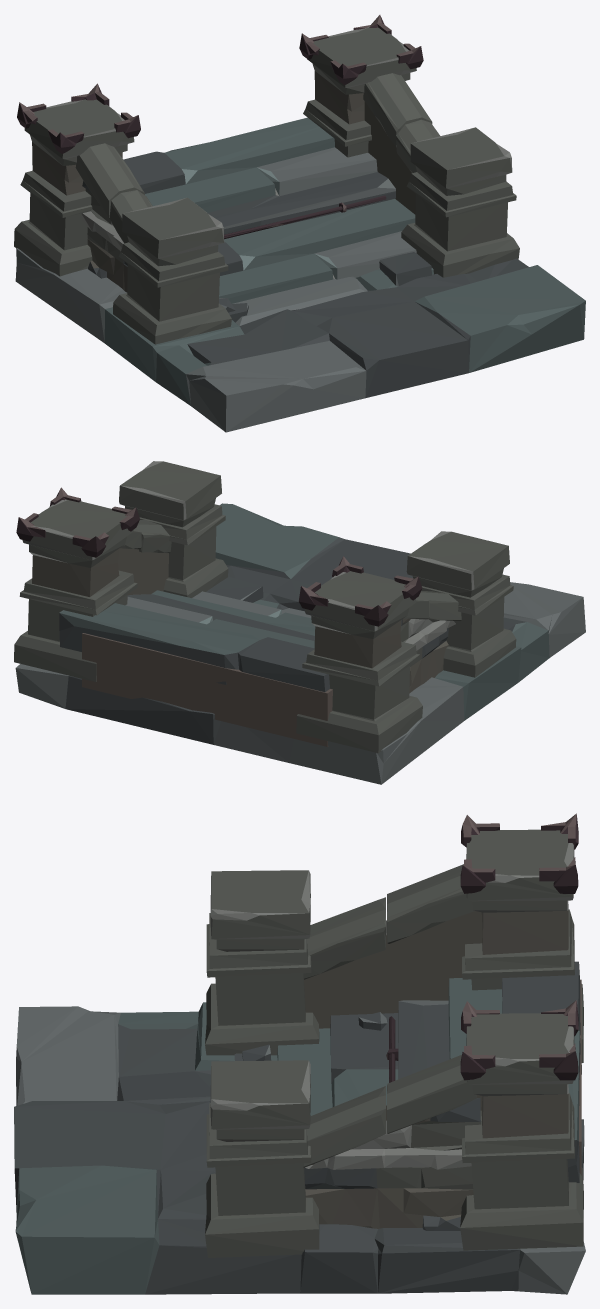
Rendered from MDungeons_Steps_MTrim_Short.FBX.
3 renders of one model, top to bottom at view 1: azimuth 30°, elevation 25°; view 2: azimuth 150°, elevation 25°; view 3: azimuth 270°, elevation 25°, orthographic. The views are drawn at different scales.
Parts seen in each view (by area): view 1: MDungeons_Steps_MTrim_Short_LOD0; view 2: MDungeons_Steps_MTrim_Short_LOD0; view 3: MDungeons_Steps_MTrim_Short_LOD0.
Part boxes in pixels (<box>): MDungeons_Steps_MTrim_Short_LOD0: <box>14,15,585,432</box>; MDungeons_Steps_MTrim_Short_LOD0: <box>14,461,585,784</box>; MDungeons_Steps_MTrim_Short_LOD0: <box>14,813,585,1294</box>.
Size of what is drawn, in the model's own units: 6.1 by 2.81 by 6.02.
